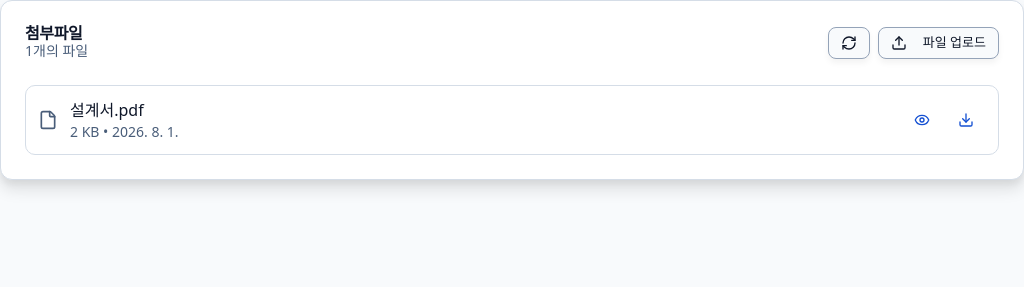
Test: SRAttachments › 새로고침 버튼은 목록을 다시 읽는다
Check: the text "설계서.pdf" is shown, box [70,99,144,121]
What coordinates should you click on to do the following:
click the button named "새로고침"
I would click on:
 (849, 43)
Its box is [828,27,870,59].
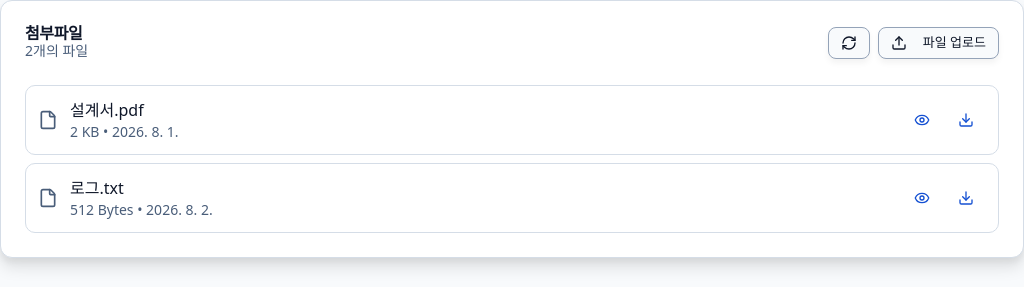
Check: the text "로그.txt" is shown, box [70,177,124,199]
